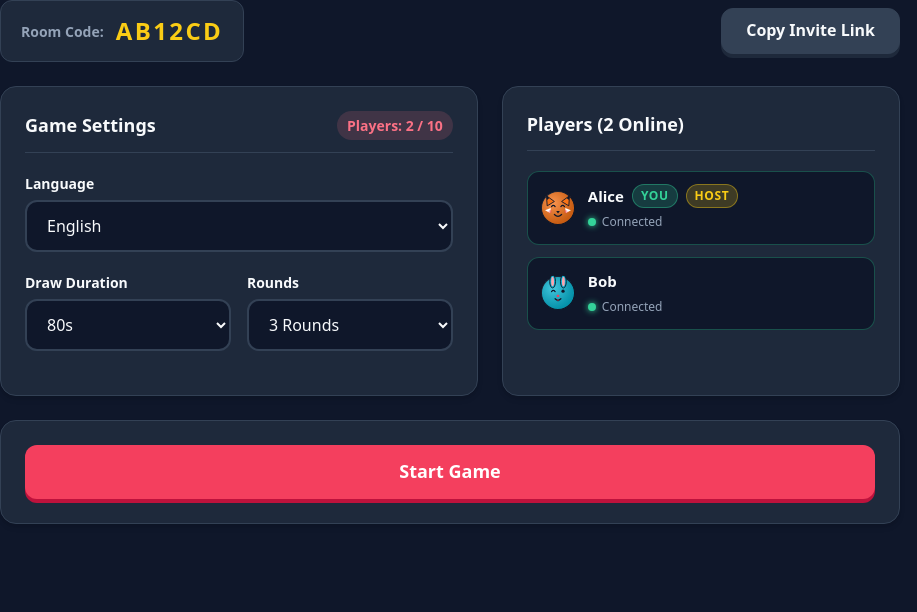
it: RoomLobby › renders room ID and claims copied only after clipboard success
Expected: the text "AB12CD" is shown, [116,13,223,49]
Click the button "Copy Invite Link" at (811, 31), box [721,8,900,54]
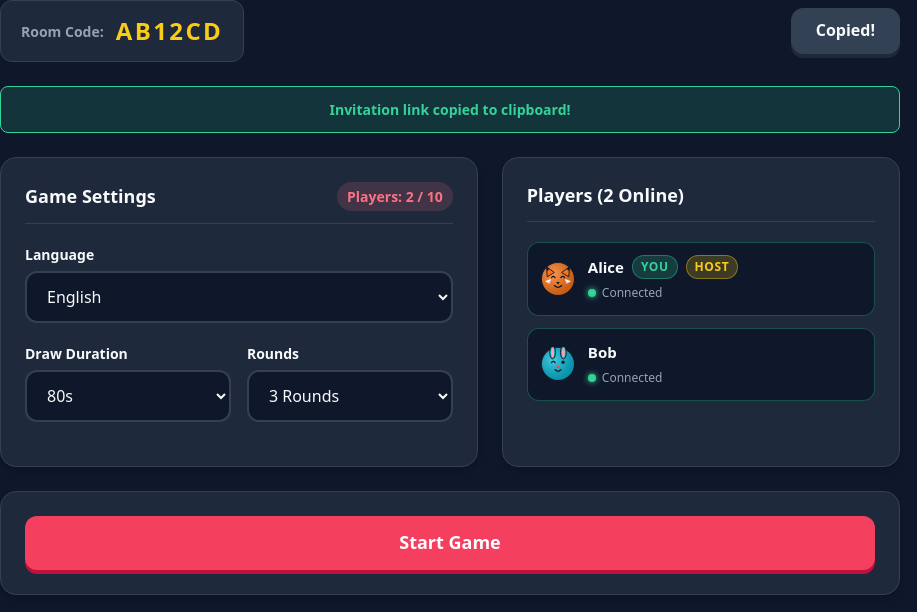
Expected: the text "Invitation link copied to clipboard!" is shown, [0,86,900,133]
Expected: the button with aria-label "copy" reads "Copied!", [791,8,900,54]
